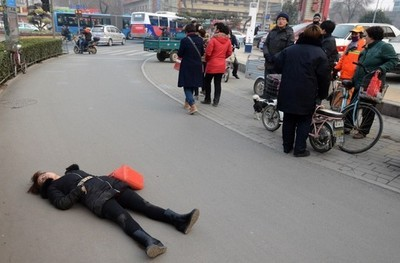10+: (1, 3, 400, 263)
down: (24, 163, 206, 260)
